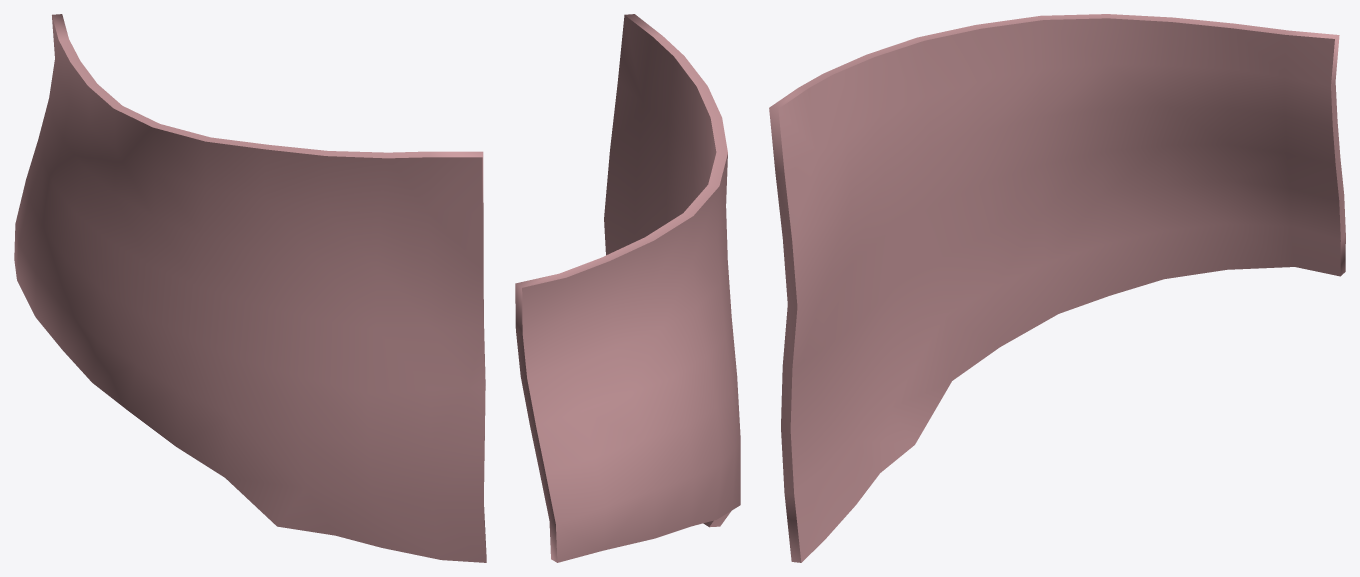
3 renders of one model, left to right at view 1: azimuth 30°, elevation 25°; view 2: azimuth 150°, elevation 25°; view 3: azimuth 270°, elevation 25°, orthographic. The views are drawn at different scales.
Parts seen in each view (by area): view 1: ZA_e4bdbadd2fb17a6f; view 2: ZA_e4bdbadd2fb17a6f; view 3: ZA_e4bdbadd2fb17a6f.
Boxes of the visible parts, bbox=[...] form: ZA_e4bdbadd2fb17a6f: bbox=[14, 14, 486, 562]; ZA_e4bdbadd2fb17a6f: bbox=[515, 14, 740, 562]; ZA_e4bdbadd2fb17a6f: bbox=[769, 14, 1345, 562].
Bounding box in the file's own units: 0.0841 × 0.1315 × 0.1535.
